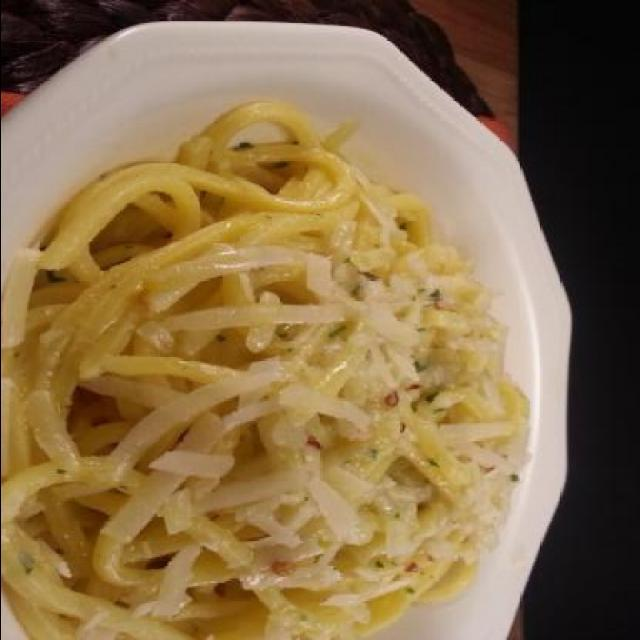Oil pasta: (57, 127, 535, 639)
